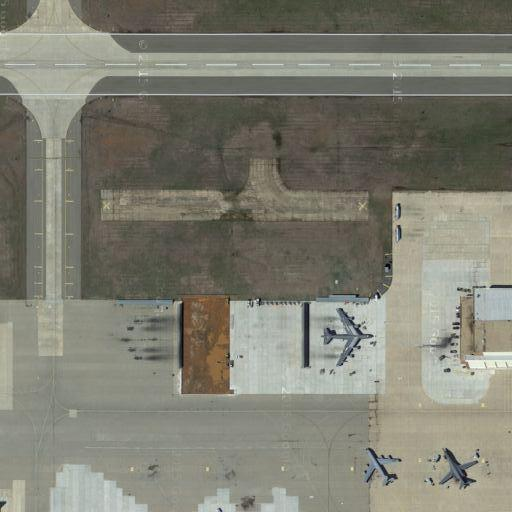B-1B: (435, 449, 482, 490)
B-52: (319, 306, 380, 370)
KC-135: (360, 445, 405, 488)
